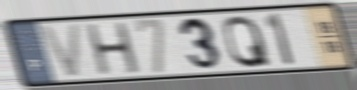1: (263, 11, 298, 67)
3: (178, 15, 226, 73)
7: (133, 18, 169, 76)
H: (84, 20, 144, 77)
Q: (222, 13, 274, 70)
V: (37, 21, 83, 81)
